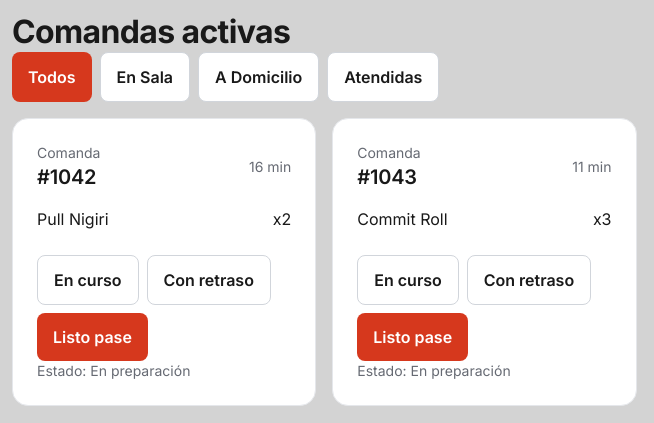
KitchenOrderList › filters orders by delivery channel
Click the button "A Domicilio": (259, 77) [198,52,319,102]
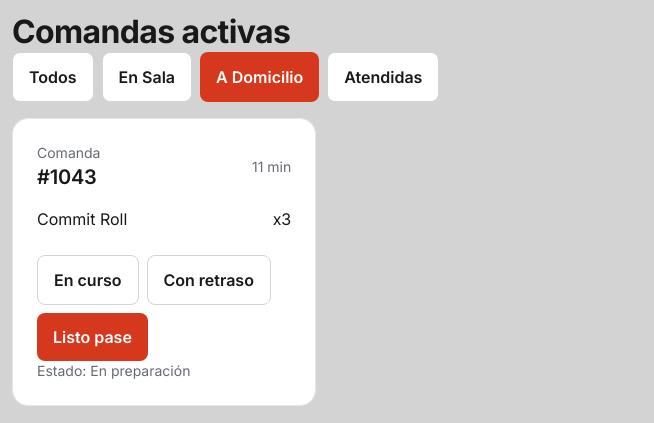
Expected: the text "#1043" is shown, [37,163,100,191]
Expected: the text "#1042" is gone
